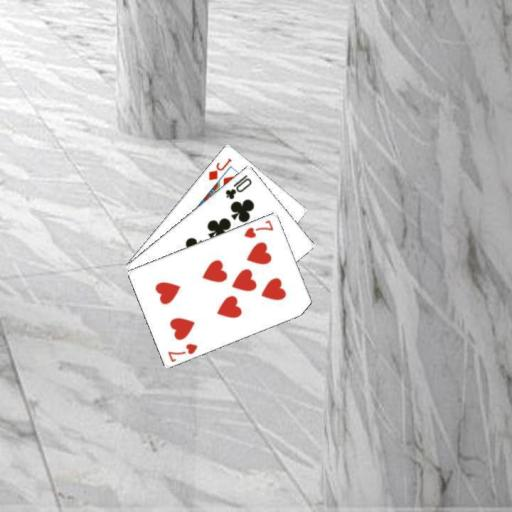card-corner: (222, 172, 253, 200), (241, 216, 275, 240), (165, 340, 199, 363), (206, 154, 233, 182)
